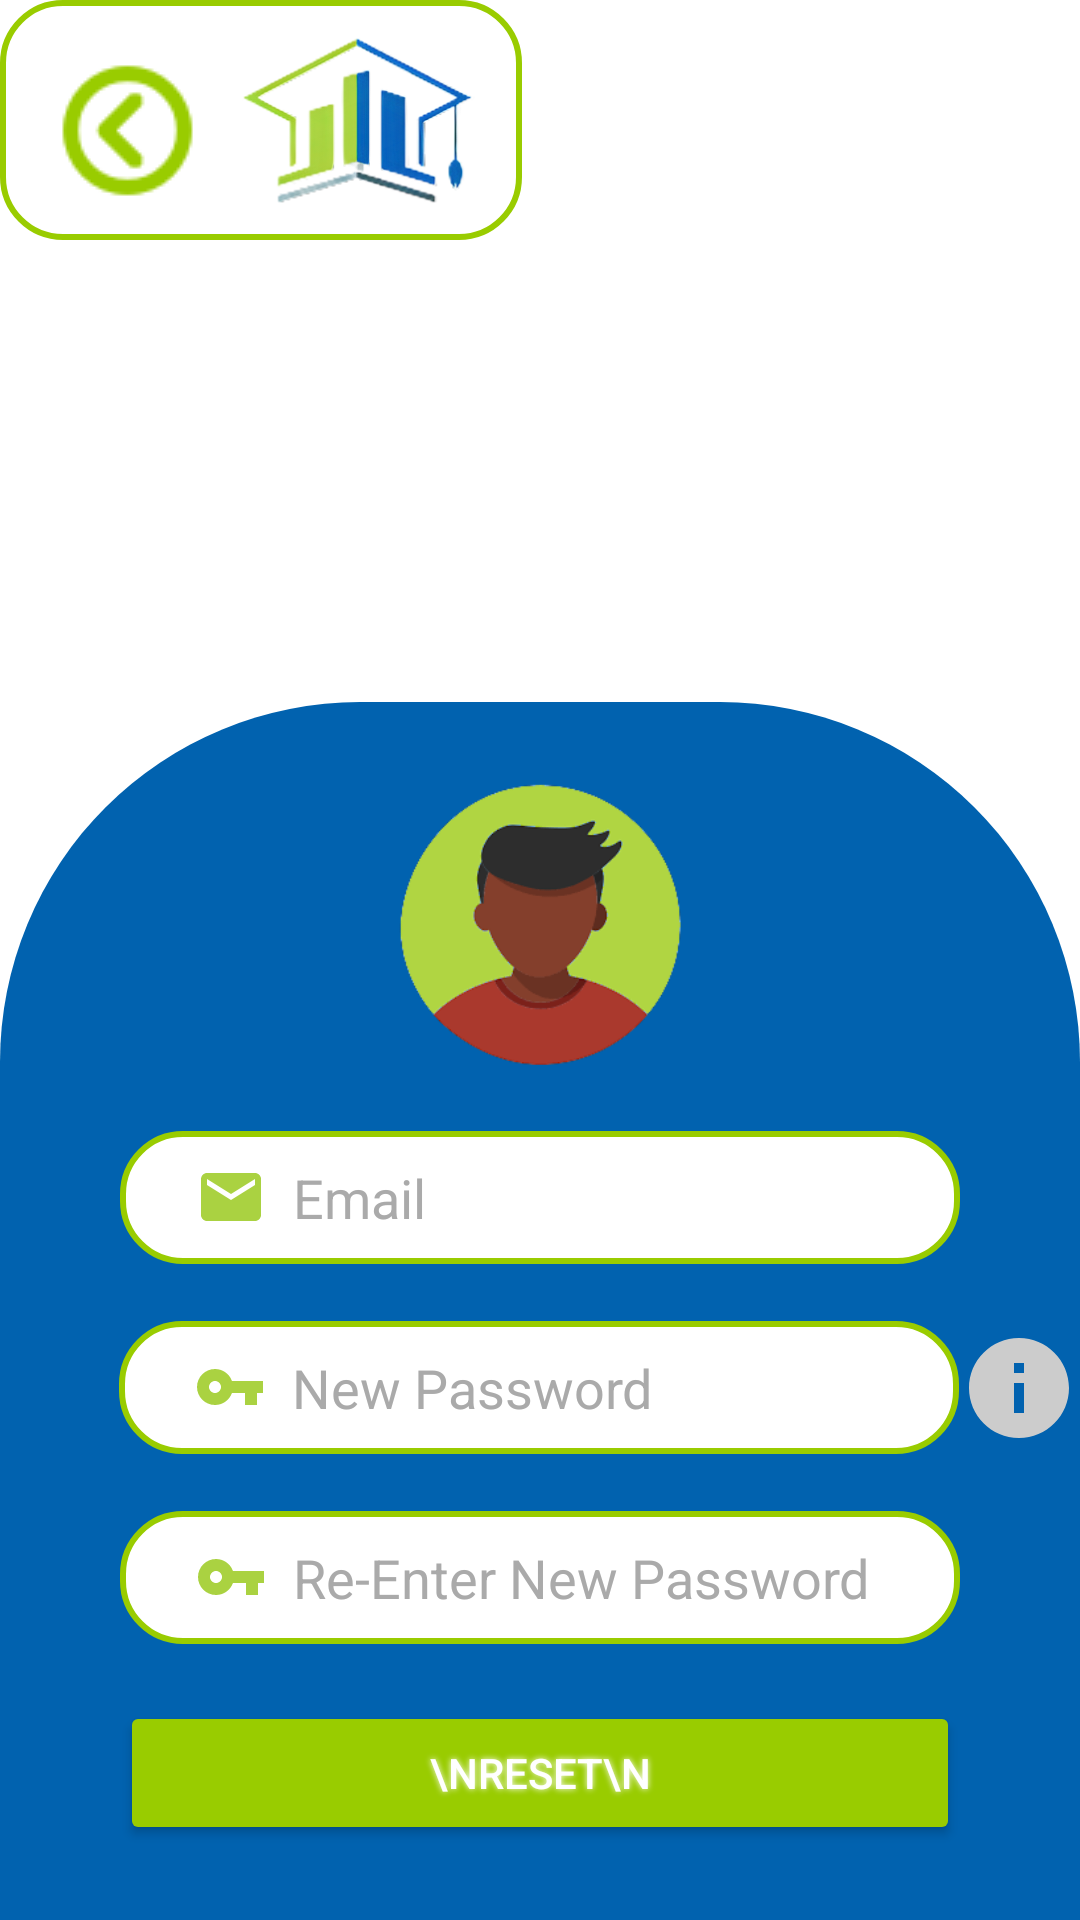

Screen size 1080w x 1920h. Icon name, then its box in pixels as (x1, y1, x2, y2):
back: (62, 65, 193, 196)
